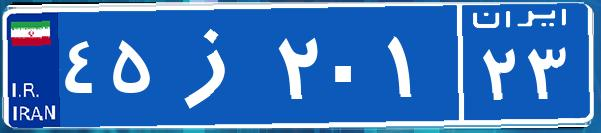0: (330, 28, 385, 110)
1: (385, 28, 445, 110)
2: (273, 28, 330, 110), (475, 38, 525, 113)
3: (525, 38, 570, 115)
4: (57, 26, 110, 107)
5: (110, 28, 158, 105)
ز: (158, 15, 273, 115)
